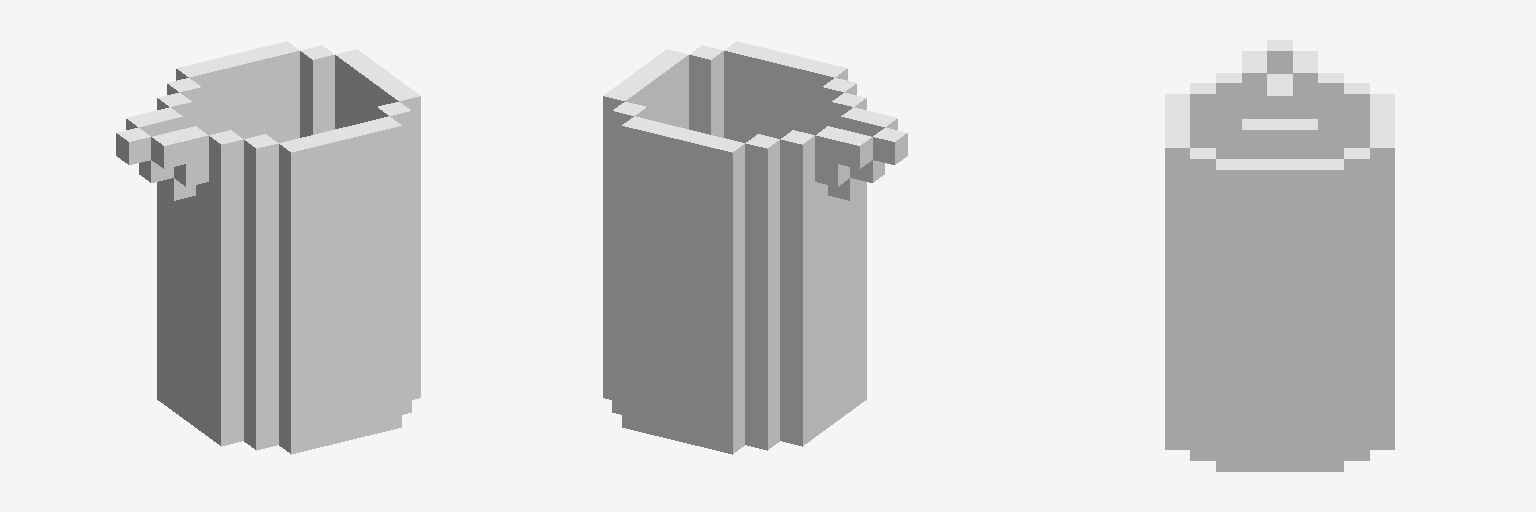
Rendered from becher.obj.
The picture shows the model from 3 angles: view 1: azimuth 30°, elevation 25°; view 2: azimuth 150°, elevation 25°; view 3: azimuth 270°, elevation 25°; orthographic projection.
Parts seen in each view (by area): view 1: becher; view 2: becher; view 3: becher.
Boxes of the visible parts, box(x1,y1,x2,y2) form: becher: box(116, 41, 420, 454); becher: box(603, 41, 907, 454); becher: box(1165, 40, 1394, 471).
Size of the model in its own units: 12 by 13 by 9.